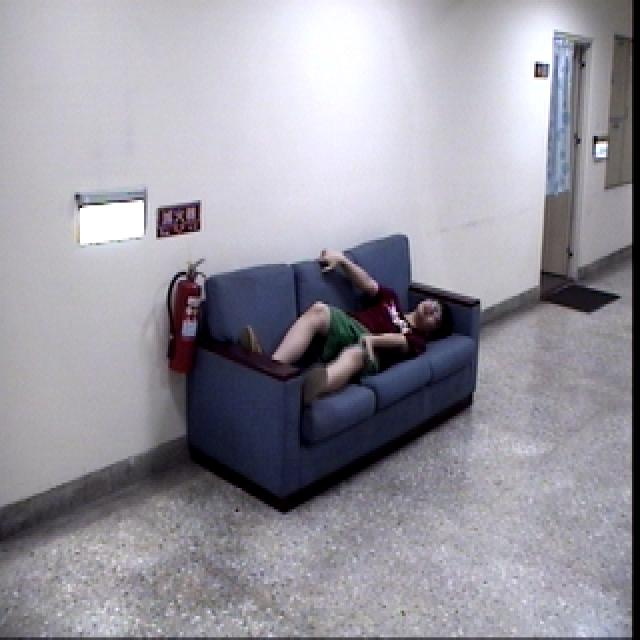lie: (244, 242, 451, 401)
